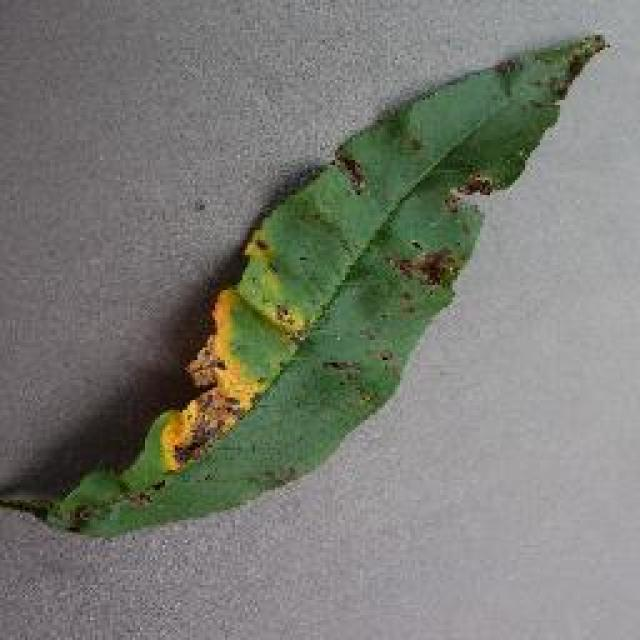Peach_Bacterial_Spot: (190, 195, 470, 483)
